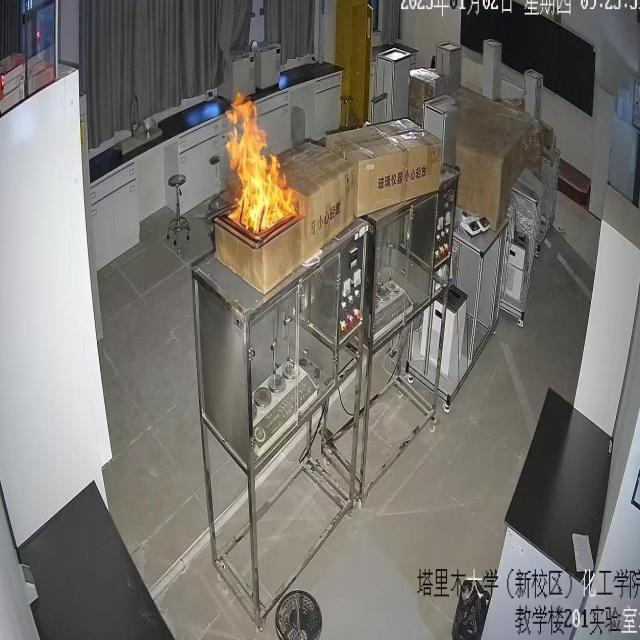smoke: (226, 81, 297, 236)
